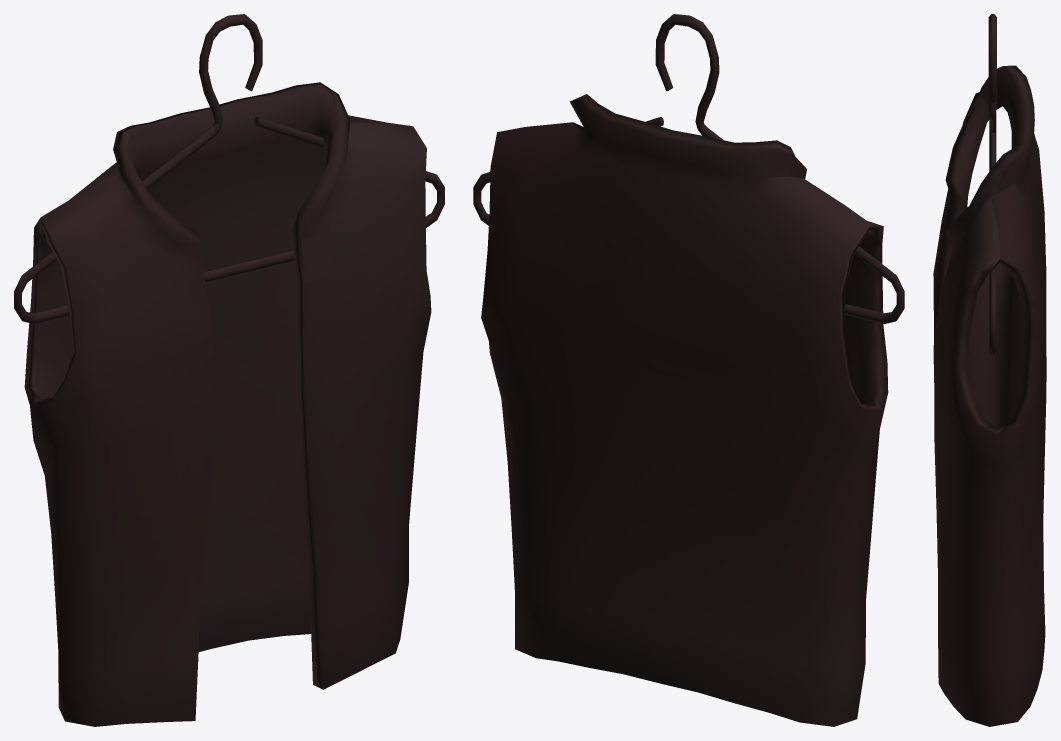
Rendered from frl_apartment_cloth_03.glb.
3 renders of one model, left to right at view 1: azimuth 30°, elevation 25°; view 2: azimuth 150°, elevation 25°; view 3: azimuth 270°, elevation 25°, orthographic. The views are drawn at different scales.
Visible parts, largest first — view 1: frl_apartment_cloth_03; view 2: frl_apartment_cloth_03; view 3: frl_apartment_cloth_03.
Boxes of the visible parts, <box> form: frl_apartment_cloth_03: <box>14,14,444,726</box>; frl_apartment_cloth_03: <box>473,14,904,726</box>; frl_apartment_cloth_03: <box>933,14,1046,726</box>.
Bounding box in the file's own units: 0.5282 × 0.7853 × 0.1264.
Materials: 1 (1 with a texture image).
